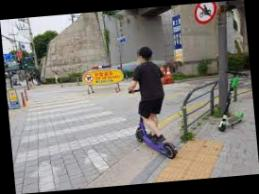nonhelmet: (123, 43, 180, 164)
